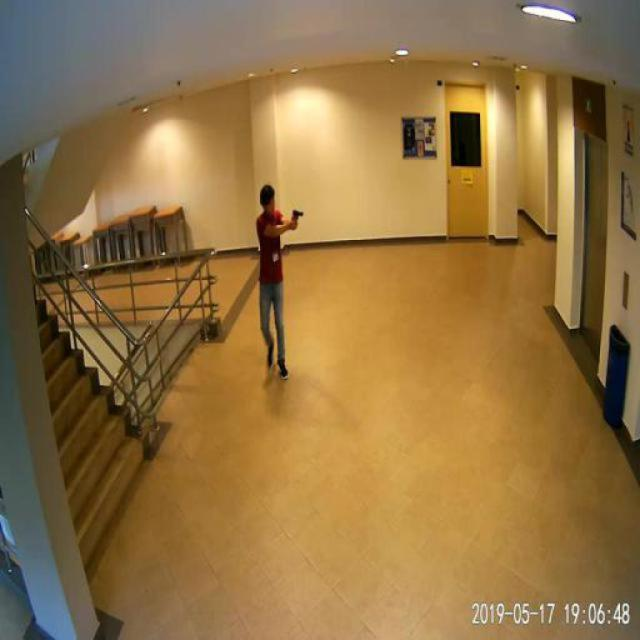pistol: (290, 206, 301, 225)
